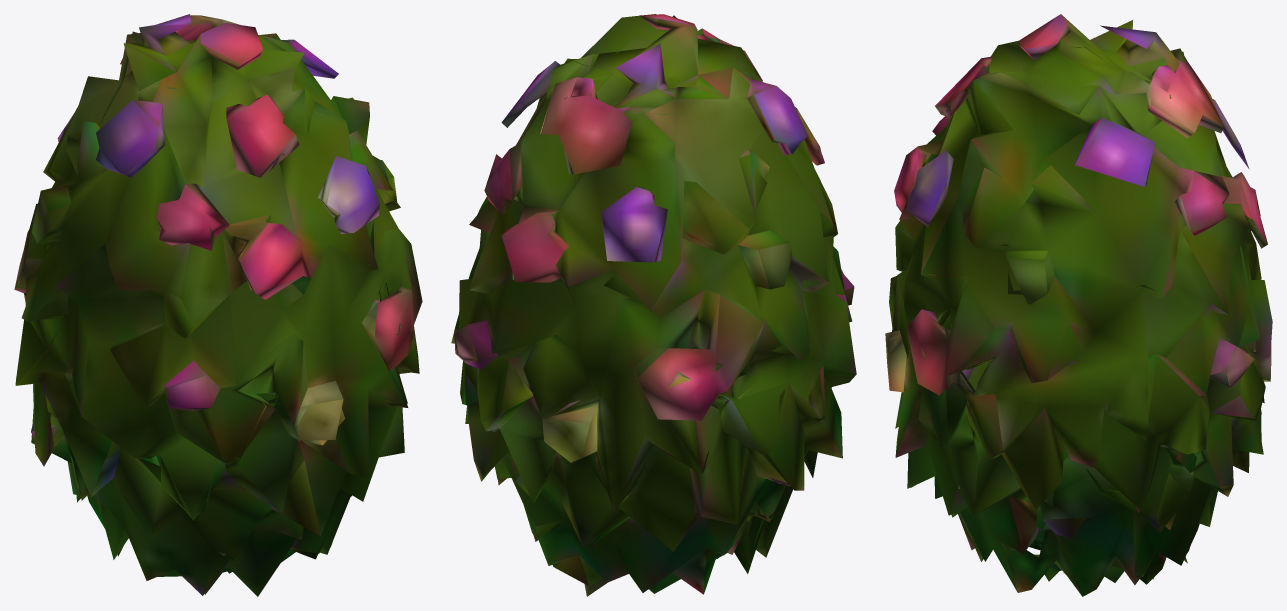
Rendered from bush.glb.
The picture shows the model from 3 angles, left to right: view 1: azimuth 30°, elevation 25°; view 2: azimuth 150°, elevation 25°; view 3: azimuth 270°, elevation 25°; orthographic projection.
Size of the model in its own units: 0.6563 by 0.9921 by 0.6437.
Materials: 1 (1 with a texture image).
